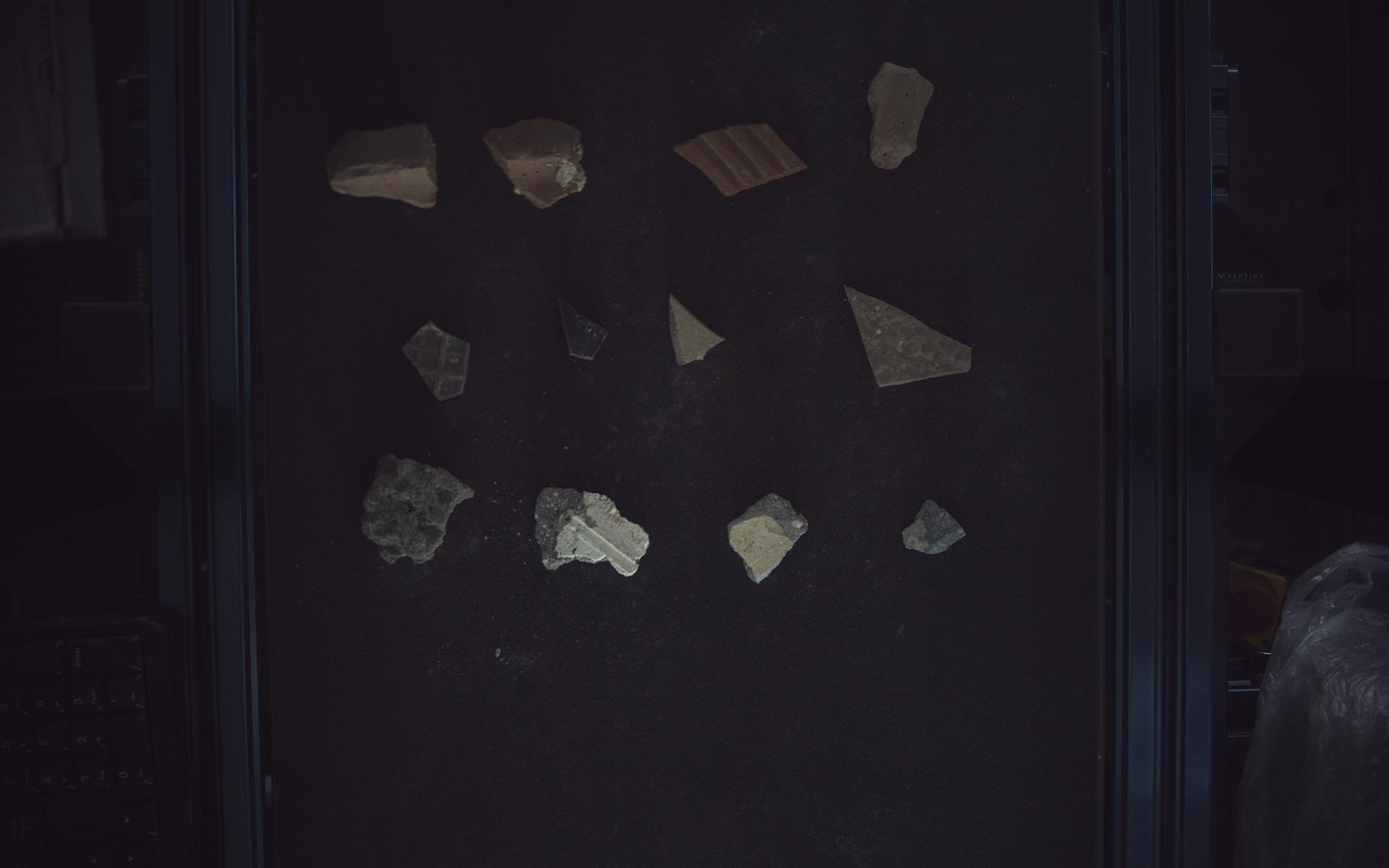brick: (675, 122, 809, 196), (326, 122, 438, 208), (484, 116, 587, 208), (869, 61, 936, 169)
concrete: (362, 454, 474, 564), (535, 488, 650, 577), (729, 493, 810, 584), (904, 500, 967, 555)
tile: (846, 286, 974, 387), (402, 321, 470, 401), (671, 294, 726, 365), (558, 298, 608, 360)
